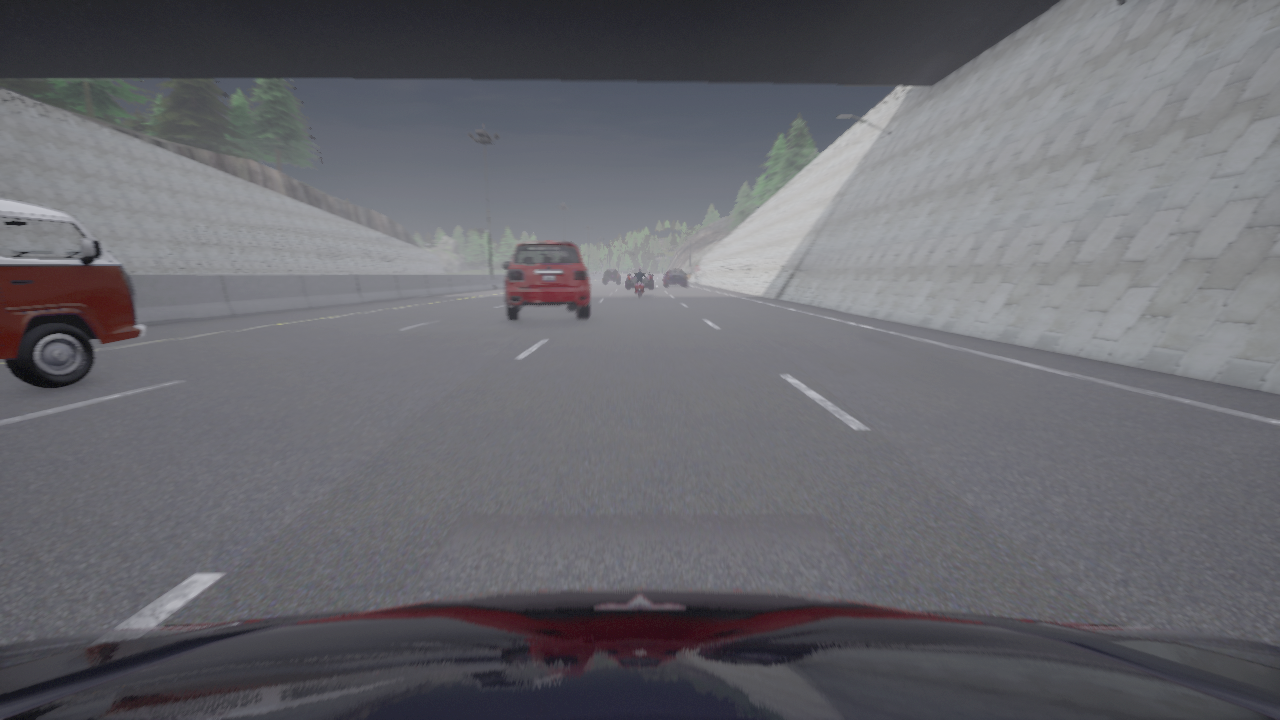cyclist: (0, 588, 1279, 719), (503, 241, 589, 320), (626, 268, 652, 288), (663, 269, 686, 286), (632, 273, 646, 296), (603, 269, 619, 283)
